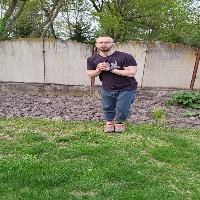lunges: (80, 34, 154, 144)
